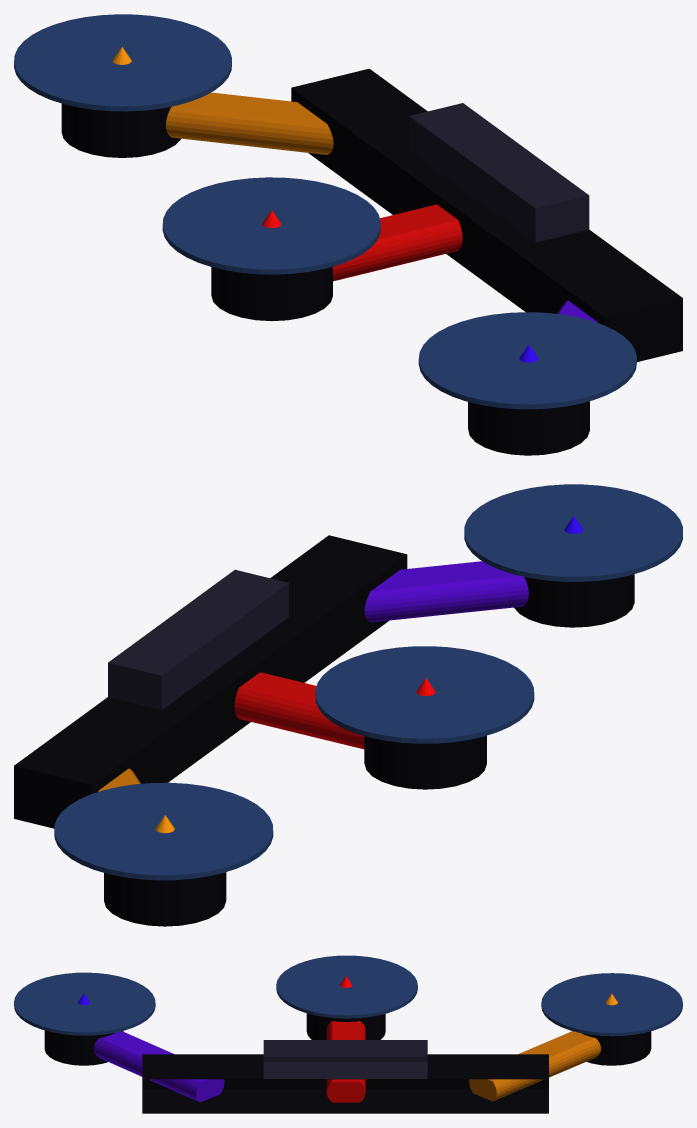
The model's file is hexfpv2.obj.
3 views of the same model, one above another, from view 1: azimuth 30°, elevation 25°; view 2: azimuth 150°, elevation 25°; view 3: azimuth 270°, elevation 25° (orthographic). The views are drawn at different scales.
Parts seen in each view (by area): view 1: Body, Prop.001, Prop, Prop.002, Body_Top, Fore_arm, Motor.002, Motor.001, Port_Arm, Motor; view 2: Body, Prop, Prop.002, Prop.001, Body_Top, Aft_Arm, Motor, Motor.002, Port_Arm, Motor.001; view 3: Body, Prop.002, Prop.001, Prop, Body_Top, Fore_arm, Aft_Arm, Port_Arm, Motor.001, Motor, Motor.002.
Part boxes in pixels (left/top/right/bottom): Body: left=291, top=68, right=682, bottom=361; Prop.001: left=418, top=312, right=636, bottom=409; Prop: left=14, top=14, right=231, bottom=111; Prop.002: left=162, top=177, right=380, bottom=274; Body_Top: left=409, top=103, right=589, bottom=242; Fore_arm: left=166, top=92, right=333, bottom=154; Motor.002: left=211, top=266, right=332, bottom=321; Motor.001: left=468, top=401, right=589, bottom=455; Port_Arm: left=333, top=204, right=462, bottom=281; Motor: left=61, top=103, right=180, bottom=157; Body: left=14, top=535, right=407, bottom=828; Prop: left=54, top=782, right=273, bottom=880; Prop.002: left=315, top=646, right=534, bottom=743; Prop.001: left=464, top=484, right=682, bottom=581; Body_Top: left=108, top=569, right=288, bottom=709; Aft_Arm: left=364, top=561, right=528, bottom=622; Motor: left=104, top=872, right=226, bottom=926; Motor.002: left=364, top=735, right=486, bottom=789; Port_Arm: left=234, top=672, right=364, bottom=749; Motor.001: left=514, top=574, right=634, bottom=627; Body: left=142, top=1054, right=548, bottom=1113; Prop.002: left=276, top=955, right=417, bottom=1018; Prop.001: left=14, top=972, right=155, bottom=1035; Prop: left=541, top=973, right=682, bottom=1036; Body_Top: left=263, top=1040, right=427, bottom=1078; Fore_arm: left=469, top=1031, right=600, bottom=1101; Aft_Arm: left=93, top=1031, right=224, bottom=1102; Port_Arm: left=326, top=1021, right=365, bottom=1102; Motor.001: left=44, top=1030, right=123, bottom=1065; Motor: left=582, top=1031, right=651, bottom=1065; Motor.002: left=306, top=1013, right=385, bottom=1039.
Bounding box in the file's own units: 0.1376 × 0.0333 × 0.3532.
